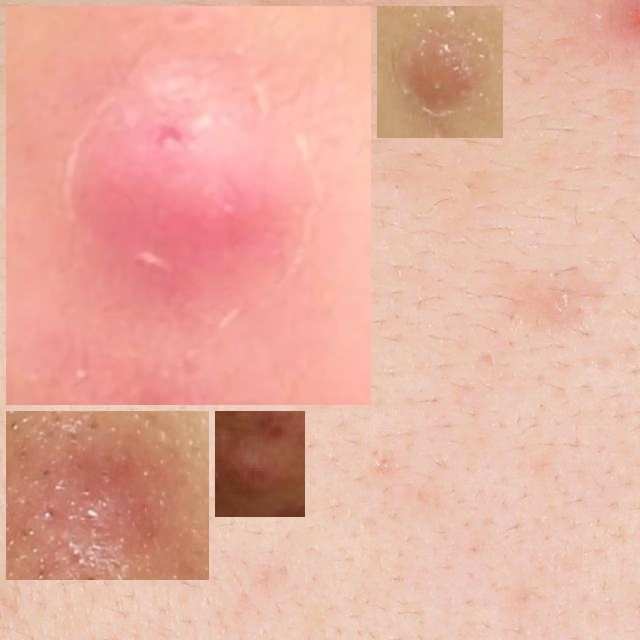nodule: (14, 14, 363, 397), (14, 419, 201, 572), (385, 14, 495, 130), (223, 419, 297, 509)
